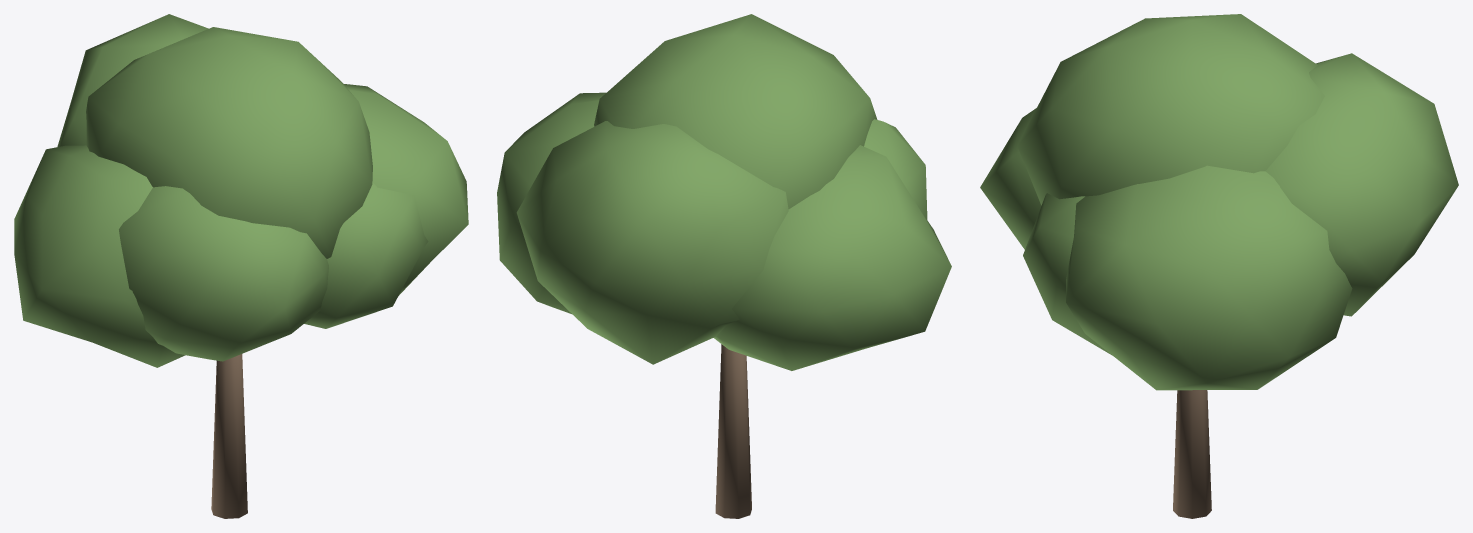
File: tree_broadleaf.glb
3 renders of one model, left to right at view 1: azimuth 30°, elevation 25°; view 2: azimuth 150°, elevation 25°; view 3: azimuth 270°, elevation 25°, orthographic. The views are drawn at different scales.
Visible parts, largest first — view 1: tree_broadleaf; view 2: tree_broadleaf; view 3: tree_broadleaf.
Boxes of the visible parts, x1=… form: tree_broadleaf: x1=14, y1=14, x2=468, y2=518; tree_broadleaf: x1=497, y1=14, x2=951, y2=518; tree_broadleaf: x1=980, y1=14, x2=1458, y2=518.
Size of the model in its own units: 8.26 by 8.88 by 7.85.
